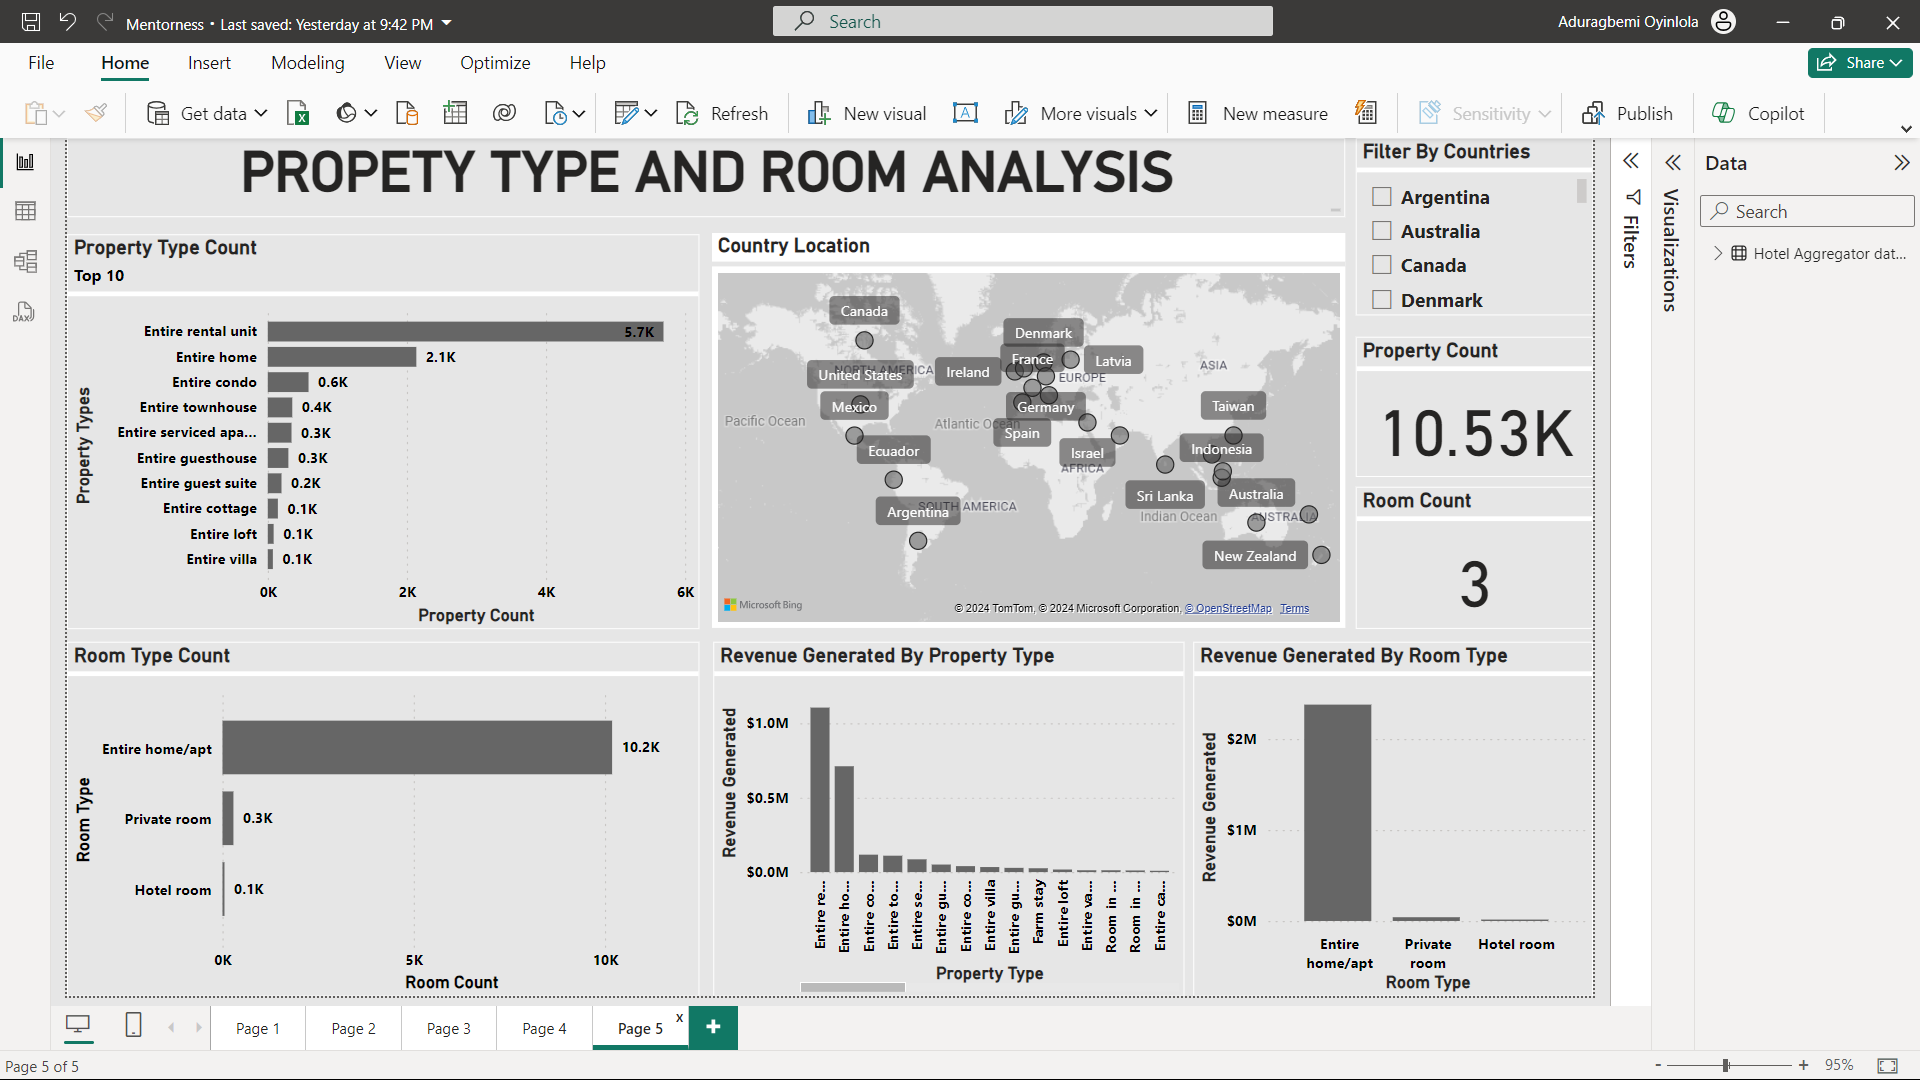

This screenshot's page, from the dashboard's own definition file:
{"tool":"powerbi","page":{"name":"Page 5","canvas":[1280,720],"ordinal":4},"visuals":[{"type":"barChart","title":"Property Type Count","fields":{"Category":["Hotel Aggregator dataset.property_type"],"Y":["CountNonNull(Hotel Aggregator dataset.property_type)"]},"box":[0,80.5,530.7,331.4],"z":0},{"type":"barChart","title":"Room Type Count","fields":{"Category":["Hotel Aggregator dataset.room_type"],"Y":["CountNonNull(Hotel Aggregator dataset.room_type)"]},"box":[0,422.7,530.7,297.8],"z":1000},{"type":"textbox","title":"PROPETY TYPE AND ROOM ANALYSIS","box":[0,0,1072.3,66],"z":2000},{"type":"map","title":"Country Location","fields":{"Category":["Hotel Aggregator dataset.country"]},"box":[541,80,531,331],"z":3000},{"type":"slicer","title":"Filter By Countries","fields":{"Values":["Hotel Aggregator dataset.country"]},"box":[1080.7,0,199.3,148.9],"z":4000},{"type":"card","title":"Property Count","fields":{"Values":["CountNonNull(Hotel Aggregator dataset.property_type)"]},"box":[1080.7,166.9,199.3,117.7],"z":5000},{"type":"card","title":"Room Count","fields":{"Values":["Count(Hotel Aggregator dataset.room_type)"]},"box":[1080.7,293,199.3,118.9],"z":6000},{"type":"clusteredColumnChart","title":"Revenue Generated By Property Type","fields":{"Category":["Hotel Aggregator dataset.property_type"],"Y":["Sum(Hotel Aggregator dataset.price)"]},"box":[541.5,422.7,395,297.8],"z":7000},{"type":"clusteredColumnChart","title":"Revenue Generated By Room Type","fields":{"Category":["Hotel Aggregator dataset.room_type"],"Y":["Sum(Hotel Aggregator dataset.price)"]},"box":[945,422.7,335,297.8],"z":8000}]}

Visuals, with their boxes on the page's 1280x720 design canvas (x1, y1, x2, y2). These are canvas units, not pixel positions in the 1920x1080 screenshot, which may show the page scaled, cropped or inside an application window:
"Property Type Count" barChart: 0, 80, 531, 412
"Room Type Count" barChart: 0, 423, 531, 720
"PROPETY TYPE AND ROOM ANALYSIS" textbox: 0, 0, 1072, 66
"Country Location" map: 541, 80, 1072, 411
"Filter By Countries" slicer: 1081, 0, 1280, 149
"Property Count" card: 1081, 167, 1280, 285
"Room Count" card: 1081, 293, 1280, 412
"Revenue Generated By Property Type" clusteredColumnChart: 542, 423, 936, 720
"Revenue Generated By Room Type" clusteredColumnChart: 945, 423, 1280, 720
